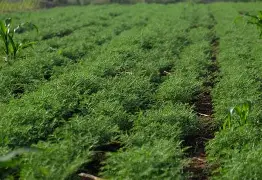crops: (0, 16, 132, 174), (192, 5, 262, 172), (92, 2, 210, 54), (90, 124, 187, 178), (93, 58, 175, 114), (0, 16, 39, 59), (44, 147, 95, 178), (0, 63, 45, 97), (177, 108, 215, 145), (0, 142, 42, 174), (39, 51, 87, 76), (220, 100, 249, 131), (204, 3, 241, 26), (233, 8, 261, 38), (43, 0, 152, 7), (111, 19, 140, 36), (0, 0, 40, 12), (166, 34, 191, 52), (176, 2, 191, 22), (142, 0, 188, 5), (105, 10, 125, 18), (134, 18, 149, 28)
